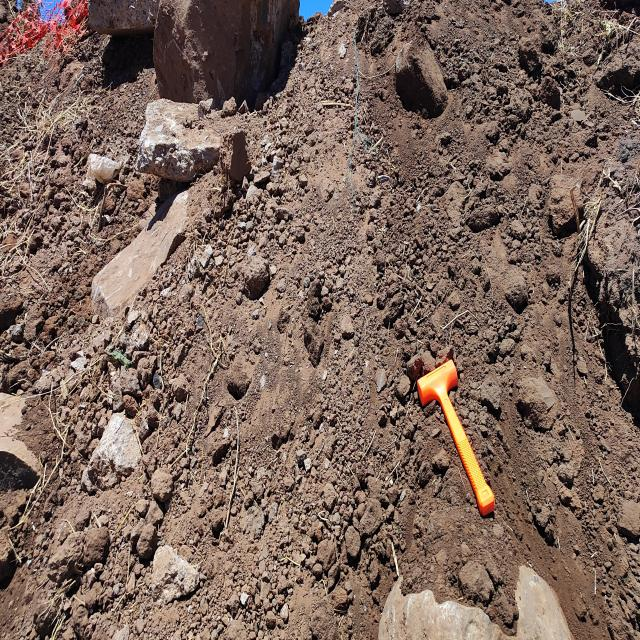Orange_hammer: (416, 350, 496, 518)
